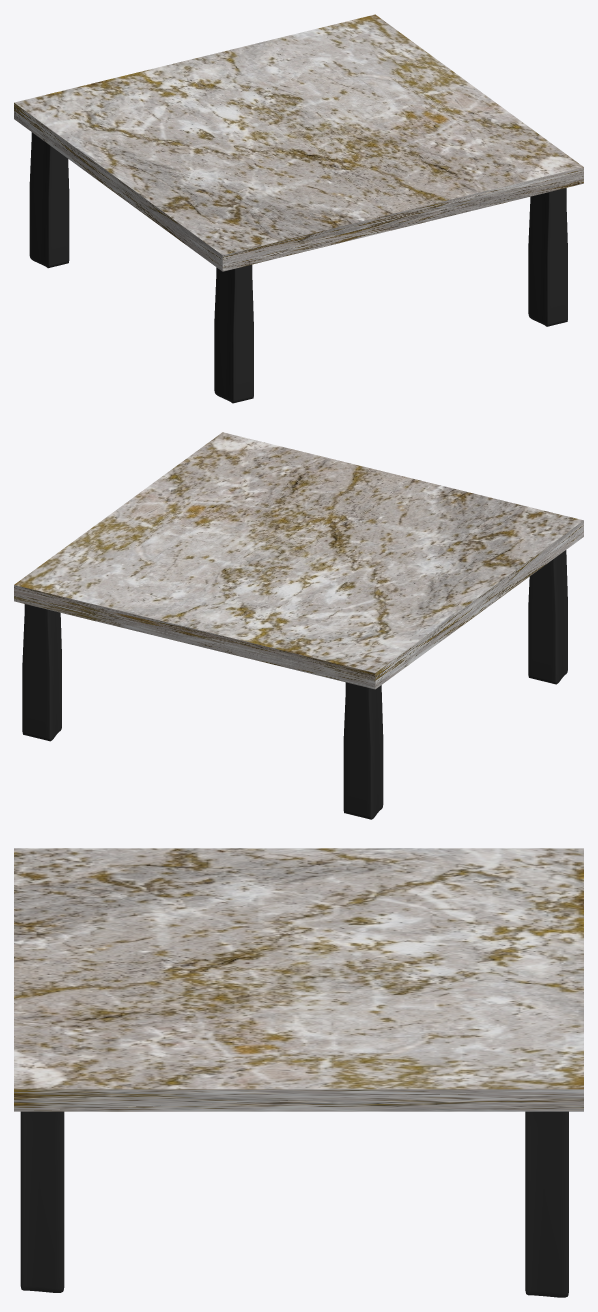
Rendered from Lobby Table.fbx.
The picture shows the model from 3 angles, top to bottom: view 1: azimuth 30°, elevation 25°; view 2: azimuth 150°, elevation 25°; view 3: azimuth 270°, elevation 25°; orthographic projection. The views are drawn at different scales.
Parts seen in each view (by area): view 1: Table_top_marb_e, Sofa_32, Sofa_33, Sofa_31; view 2: Table_top_marb_e, Sofa_31, Sofa_30, Sofa_32; view 3: Table_top_marb_e, Sofa_30, Sofa_33.
Part boxes in pixels (box(x1,y1,x2,y2)): Table_top_marb_e: box(14, 14, 583, 271); Sofa_32: box(214, 264, 253, 403); Sofa_33: box(528, 188, 567, 326); Sofa_31: box(29, 132, 69, 268); Table_top_marb_e: box(14, 432, 583, 689); Sofa_31: box(343, 682, 383, 819); Sofa_30: box(22, 604, 61, 741); Sofa_32: box(528, 550, 567, 684); Table_top_marb_e: box(14, 848, 583, 1111); Sofa_30: box(525, 1111, 568, 1297); Sofa_33: box(20, 1111, 64, 1292).
Size of the model in its own units: 43.09 by 17.57 by 43.09.
2 materials, 1 textured.
